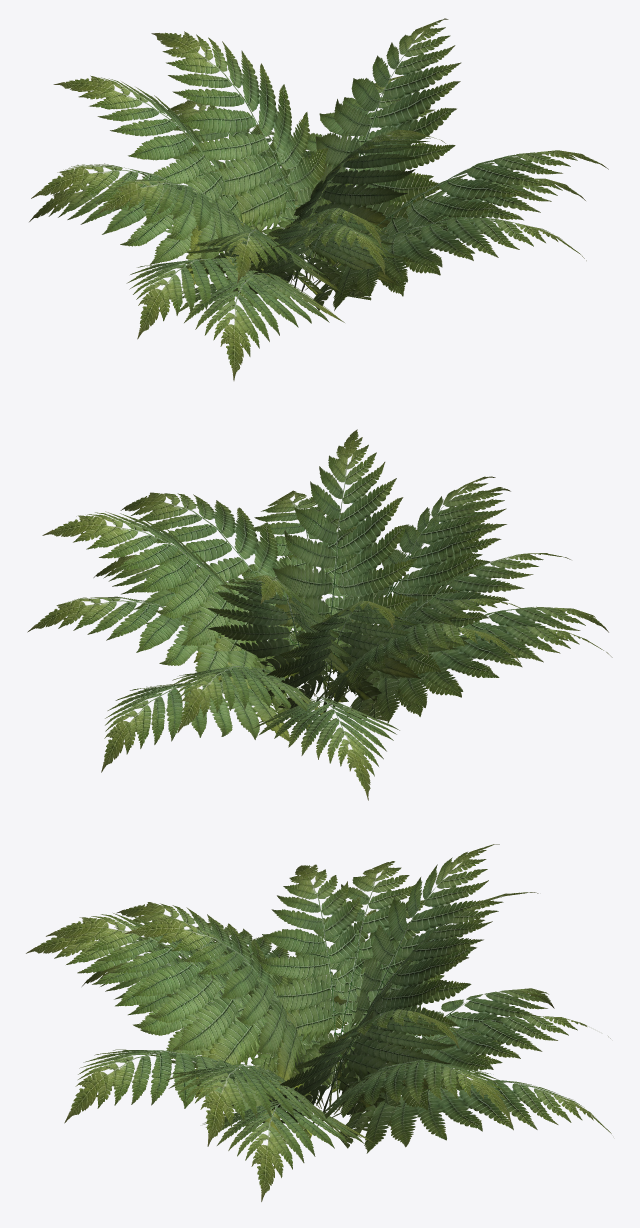
Rendered from tree9.fbx.
3 renders of one model, top to bottom at view 1: azimuth 30°, elevation 25°; view 2: azimuth 150°, elevation 25°; view 3: azimuth 270°, elevation 25°, orthographic. The views are drawn at different scales.
Parts seen in each view (by area): view 1: SM_MZRa_Fern_B0512; view 2: SM_MZRa_Fern_B0512; view 3: SM_MZRa_Fern_B0512.
Boxes of the visible parts, x1,y1,x2,y2 form: SM_MZRa_Fern_B0512: [29, 18, 608, 380]; SM_MZRa_Fern_B0512: [27, 429, 612, 800]; SM_MZRa_Fern_B0512: [26, 844, 611, 1201].
Bounding box in the file's own units: 178 × 68.81 × 175.
